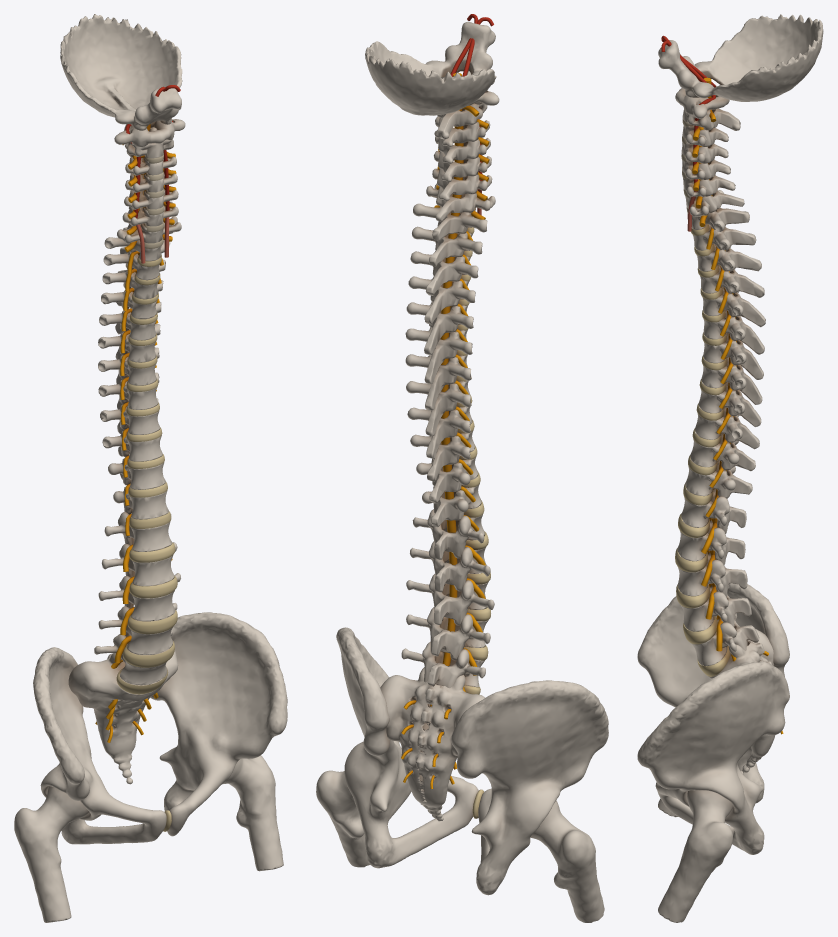
File: colonna-vertebrale.glb
3 renders of one model, left to right at view 1: azimuth 30°, elevation 25°; view 2: azimuth 150°, elevation 25°; view 3: azimuth 270°, elevation 25°, orthographic. The views are drawn at different scales.
Parts seen in each view (by area): view 1: Colonna vertebrale; view 2: Colonna vertebrale; view 3: Colonna vertebrale.
Boxes of the visible parts, box(x1,y1,x2,y2) form: Colonna vertebrale: box(14, 14, 287, 922); Colonna vertebrale: box(316, 14, 608, 922); Colonna vertebrale: box(637, 14, 823, 922).
Size of the model in its own units: 0.2909 by 0.9146 by 0.1827.
